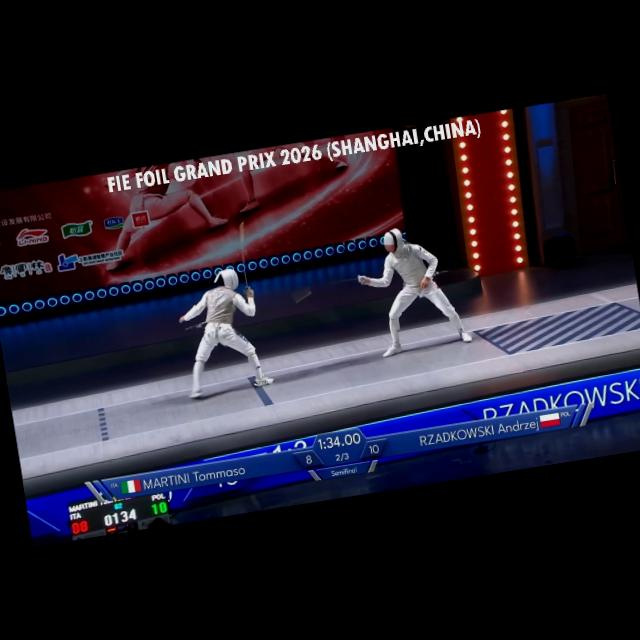blade: (289, 270, 370, 310), (231, 216, 261, 298)
